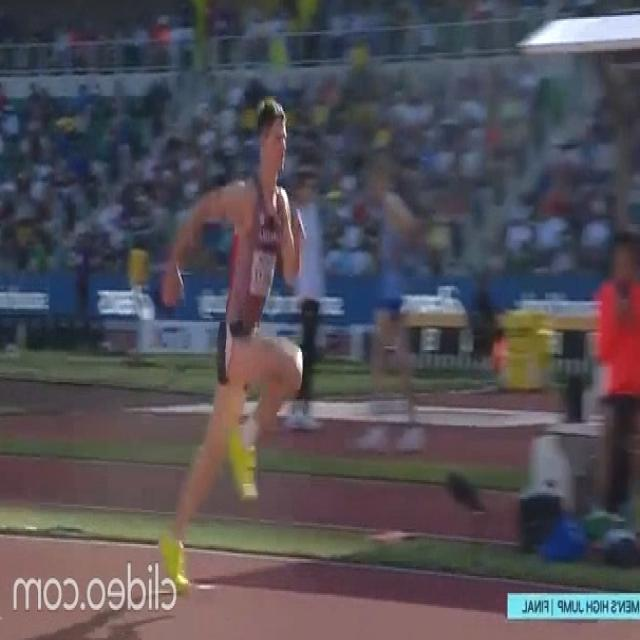run: (167, 100, 303, 578)
